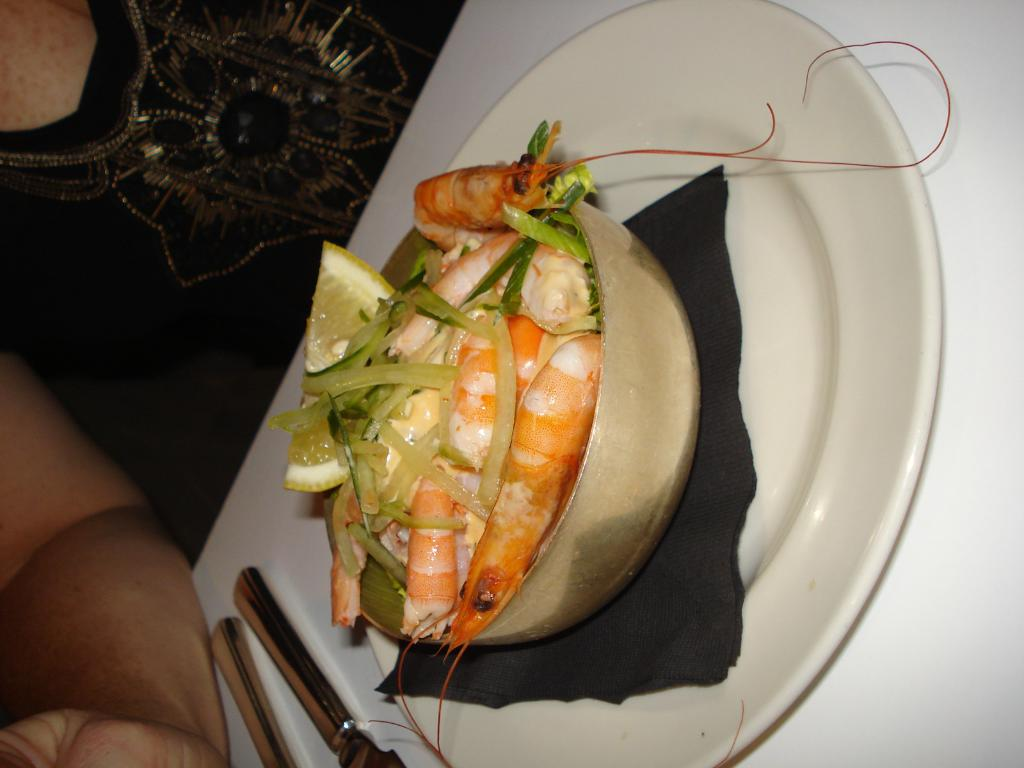salad: (218, 29, 969, 767)
